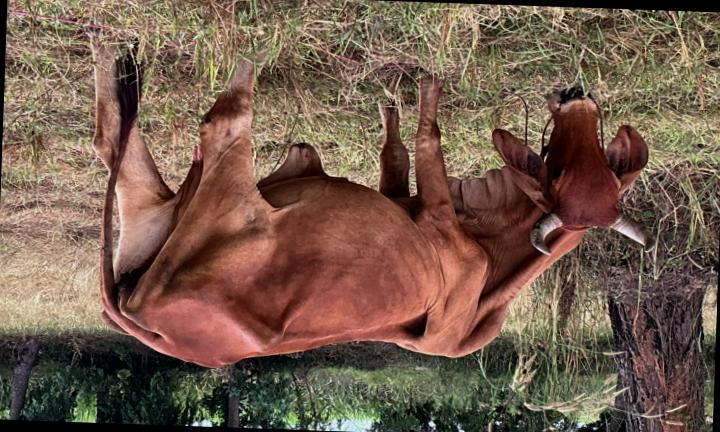Brahman: (92, 37, 654, 367)
